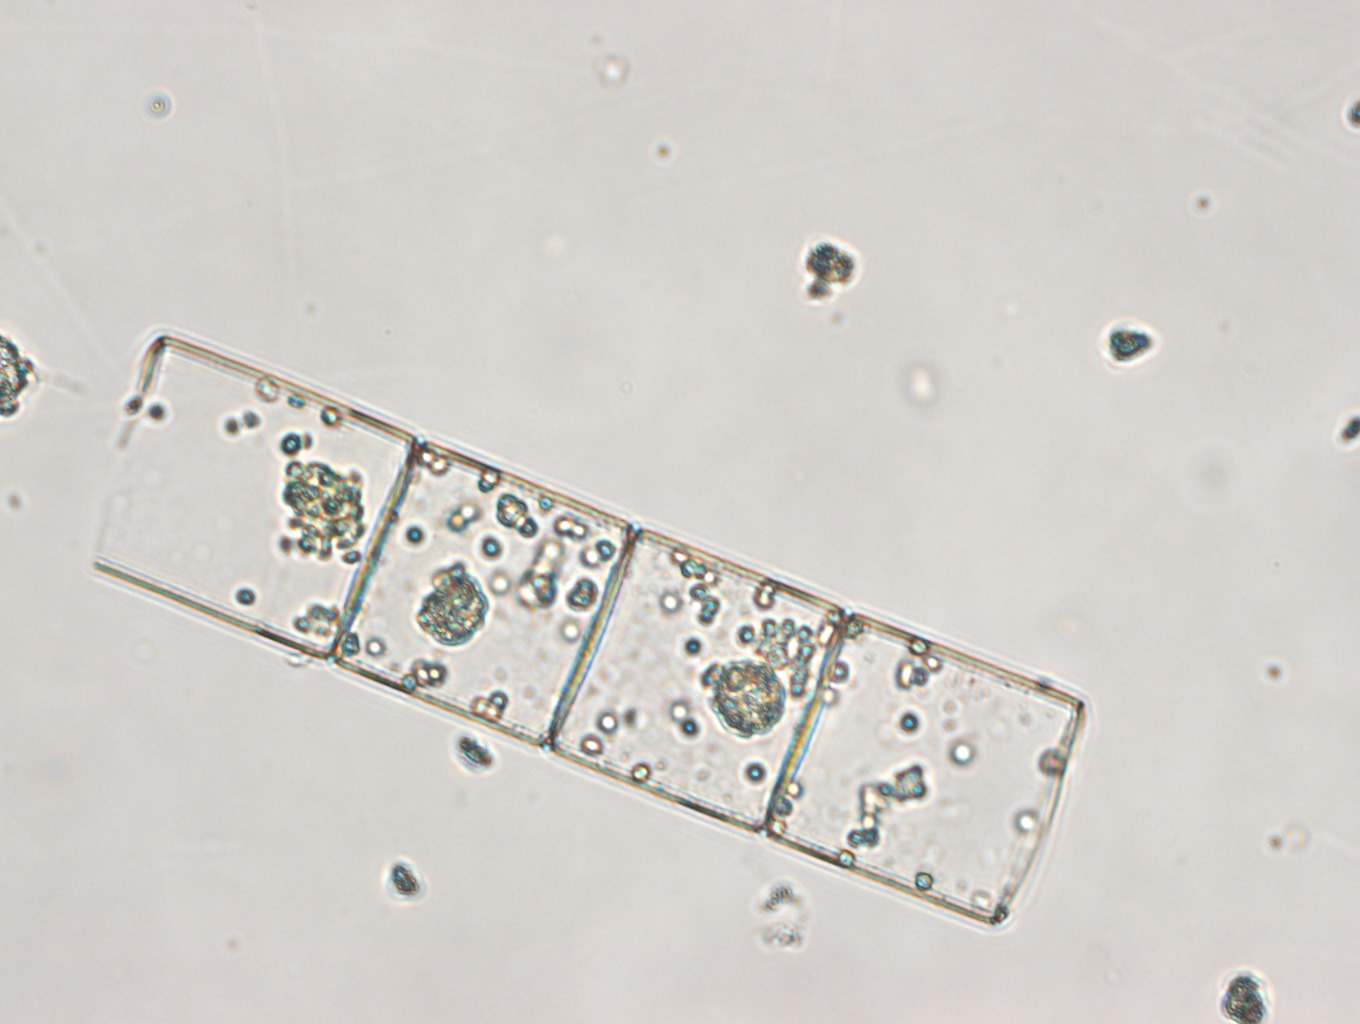guinardia flaccida: (82, 331, 1088, 934)
